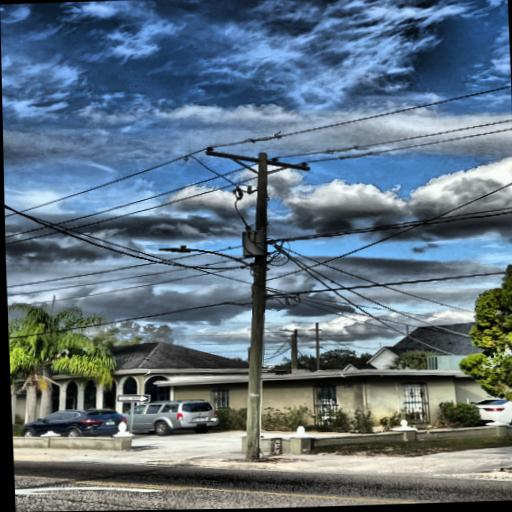pole: (231, 150, 286, 463)
transformer: (240, 229, 269, 258)
